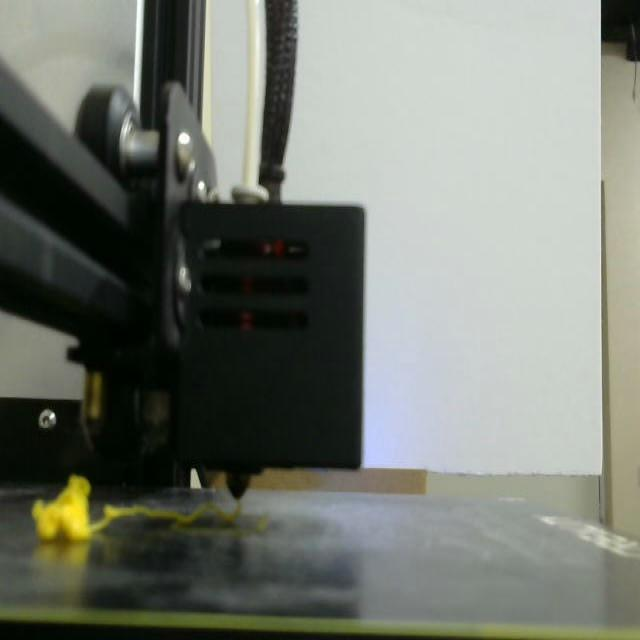spaghetti: (31, 475, 241, 542)
